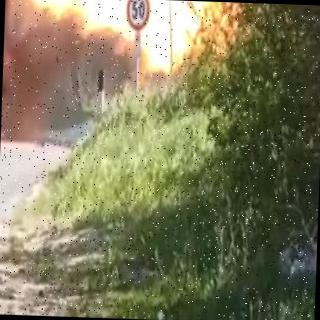smoke: (10, 68, 106, 139)
